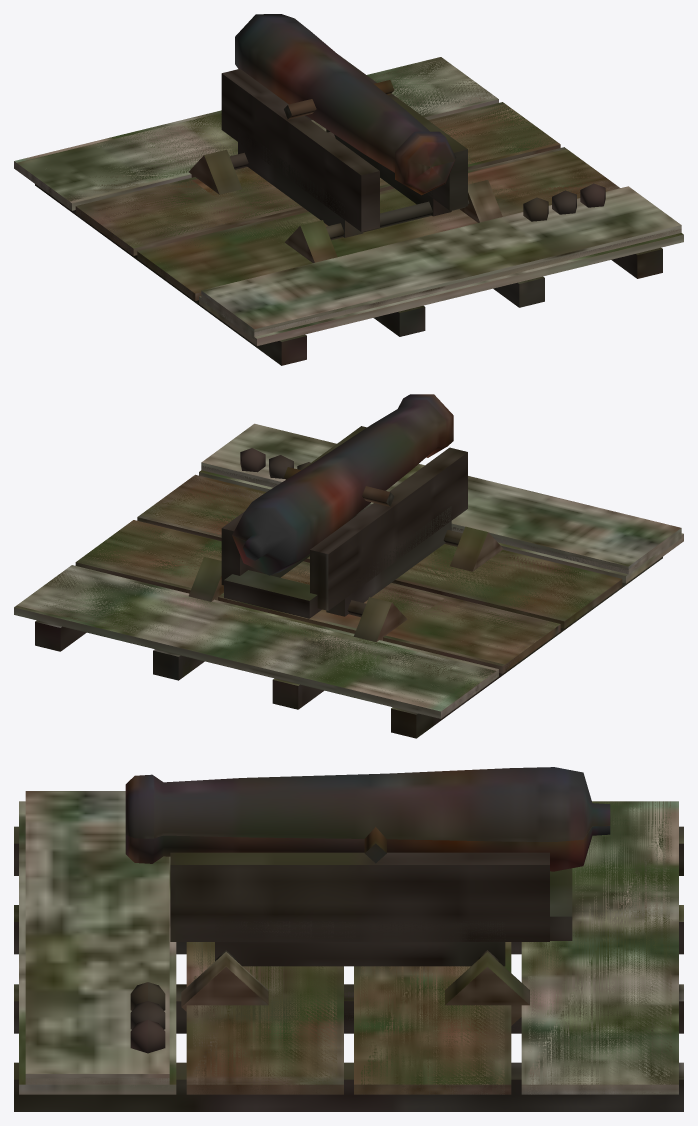
File: starfort_gun_platform_far.glb
3 renders of one model, top to bottom at view 1: azimuth 30°, elevation 25°; view 2: azimuth 150°, elevation 25°; view 3: azimuth 270°, elevation 25°, orthographic. The views are drawn at different scales.
Visible parts, largest first — view 1: intact, cracked, breached, carriage, barrel, ammo; view 2: intact, cracked, carriage, barrel, breached, ammo; view 3: intact, carriage, cracked, barrel, breached, ammo.
Part boxes in pixels (left/top/right/bottom): intact: left=14, top=57, right=683, bottom=365; cracked: left=16, top=59, right=681, bottom=338; breached: left=192, top=167, right=681, bottom=332; carriage: left=189, top=55, right=502, bottom=262; barrel: left=235, top=14, right=456, bottom=195; ammo: left=523, top=183, right=605, bottom=221; intact: left=14, top=470, right=683, bottom=738; cracked: left=17, top=465, right=681, bottom=716; carriage: left=188, top=426, right=504, bottom=642; barrel: left=232, top=394, right=453, bottom=575; breached: left=182, top=423, right=681, bottom=706; ammo: left=240, top=448, right=310, bottom=478; intact: left=14, top=801, right=683, bottom=1111; carriage: left=170, top=852, right=572, bottom=1025; cracked: left=25, top=801, right=672, bottom=1094; barrel: left=125, top=767, right=610, bottom=871; breached: left=25, top=791, right=521, bottom=1083; ammo: left=130, top=982, right=165, bottom=1053.
Size of what is drawn, in the model's own units: 3 by 1.05 by 3.
Materials: 1 (1 with a texture image).
